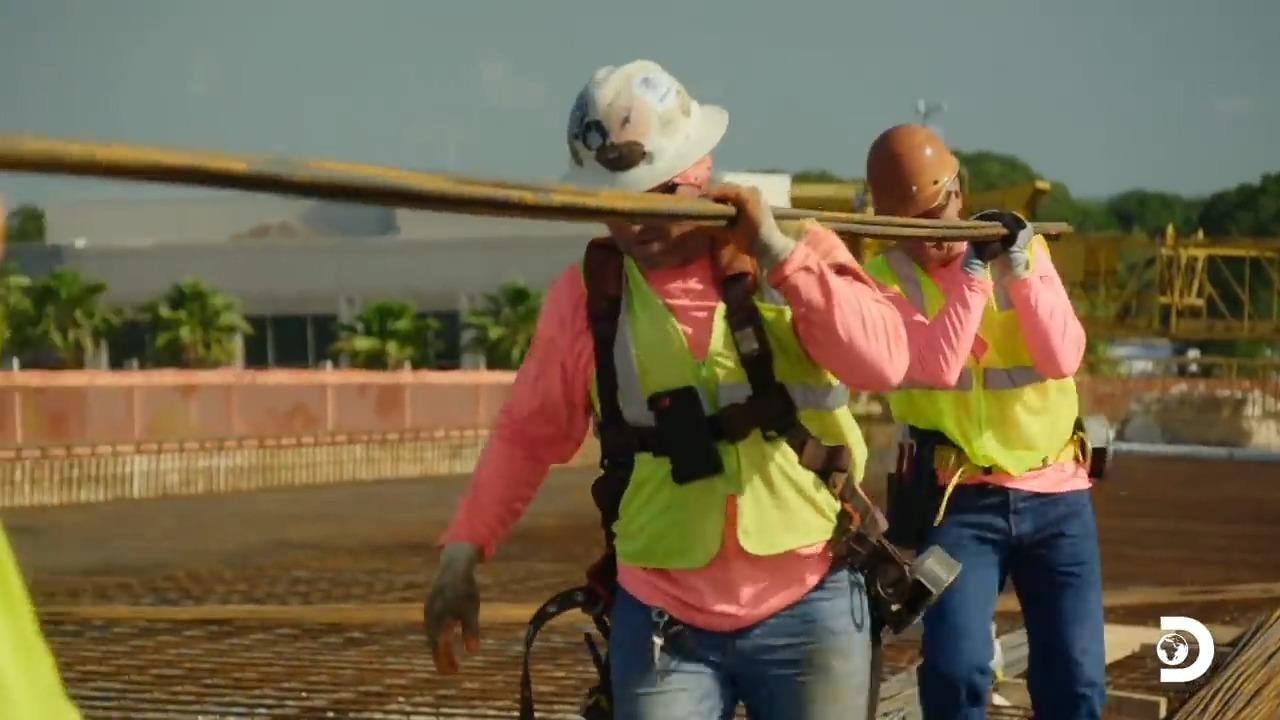Gloves: (416, 565, 487, 673), (718, 185, 771, 250), (962, 205, 1028, 257)
Helmet: (564, 57, 729, 193), (865, 122, 960, 218)
Person: (423, 58, 910, 719), (857, 122, 1107, 719)
Safety Vest: (599, 302, 859, 561), (898, 288, 1066, 471)
